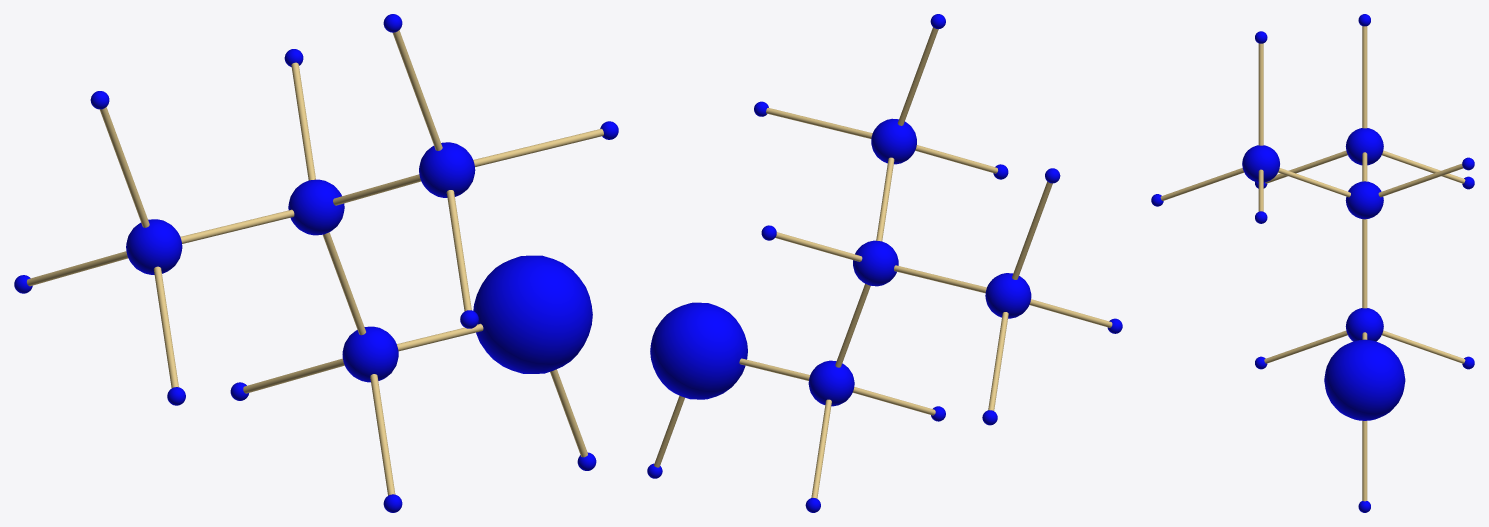
Rendered from Globularprotein.fbx.
The picture shows the model from 3 angles, left to right: view 1: azimuth 30°, elevation 25°; view 2: azimuth 150°, elevation 25°; view 3: azimuth 270°, elevation 25°; orthographic projection. The views are drawn at different scales.
Visible parts, largest first — view 1: _1112, _1113, _1116, _1117, _1118, _1126, _1121, _1114, _1120, _1123, _1124, _1119 (+3 smaller); view 2: _1112, _1113, _1116, _1117, _1119, _1124, _1120, _1114, _1123, _1126, _1121, _1115 (+1 smaller); view 3: _1112, _1116, _1117, _1123, _1114, _1126, _1118, _1124, _1122, _1119, _1115, _1121.
Boxes of the visible parts, x1,y1,x2,y2 form: _1112: (14, 14, 618, 512); _1113: (473, 128, 603, 166); _1116: (99, 107, 149, 227); _1117: (392, 30, 442, 150); _1118: (446, 190, 471, 311); _1126: (370, 374, 395, 495); _1121: (154, 266, 178, 387); _1114: (291, 62, 315, 180); _1120: (180, 209, 294, 243); _1123: (322, 232, 365, 335); _1124: (243, 358, 344, 393); _1119: (27, 251, 127, 286); _1112: (647, 14, 1122, 512); _1113: (766, 107, 872, 138); _1116: (1012, 181, 1052, 279); _1117: (897, 27, 938, 125); _1119: (988, 312, 1008, 410); _1124: (811, 399, 831, 498); _1120: (894, 265, 986, 293); _1114: (775, 232, 862, 261); _1123: (835, 284, 870, 367); _1126: (853, 387, 935, 415); _1121: (1029, 299, 1112, 327); _1115: (876, 157, 894, 241); _1112: (1151, 14, 1474, 512); _1116: (1362, 26, 1367, 128); _1117: (1258, 43, 1263, 145); _1123: (1362, 219, 1367, 308); _1114: (1378, 163, 1463, 197); _1126: (1264, 330, 1347, 363); _1118: (1160, 168, 1244, 200); _1124: (1382, 330, 1465, 363); _1122: (1362, 420, 1367, 501); _1119: (1382, 150, 1465, 183); _1115: (1278, 168, 1350, 197); _1121: (1265, 150, 1347, 183).
Size of the model in its own units: 2.63 by 2.88 by 2.16.
